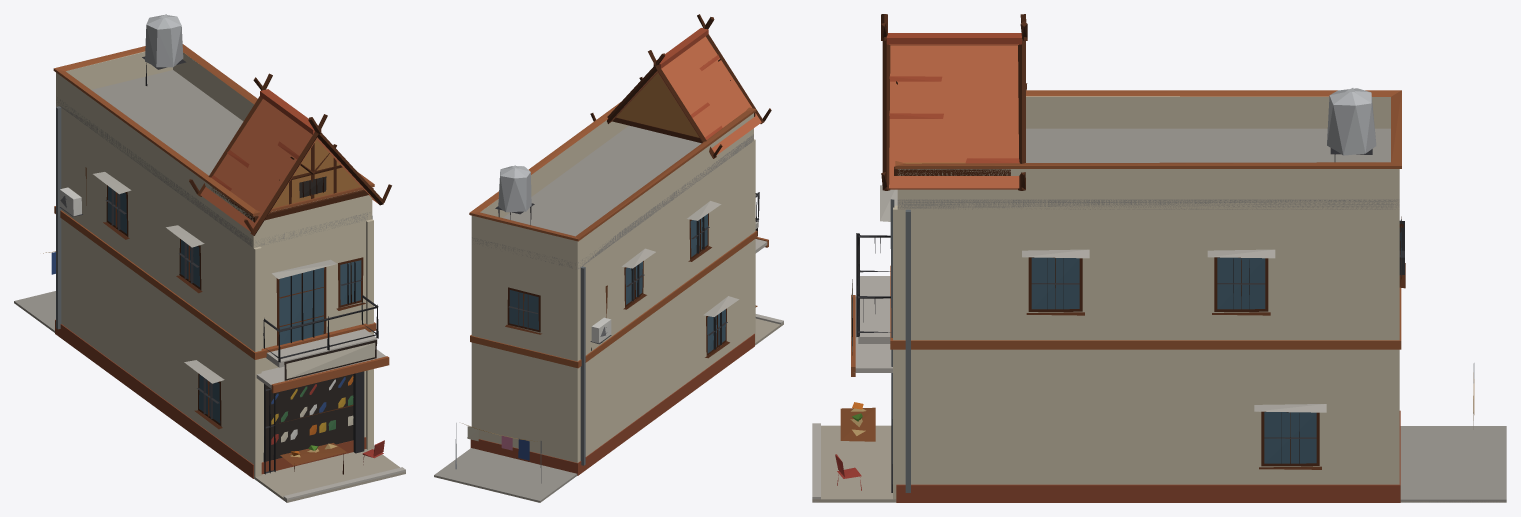
The model's file is bay1_one.glb.
The picture shows the model from 3 angles, left to right: view 1: azimuth 30°, elevation 25°; view 2: azimuth 150°, elevation 25°; view 3: azimuth 270°, elevation 25°; orthographic projection. The views are drawn at different scales.
Parts seen in each view (by area): view 1: body, windows; view 2: body, windows; view 3: body, windows.
Part boxes in pixels (box(x1,y1,x2,y2)): body: box(14, 14, 405, 502); windows: box(107, 176, 361, 461); body: box(434, 14, 783, 502); windows: box(509, 214, 725, 353); body: box(812, 14, 1506, 502); windows: box(1031, 219, 1401, 463).
Bounding box in the file's own units: 4.98 × 11.33 × 15.9.
